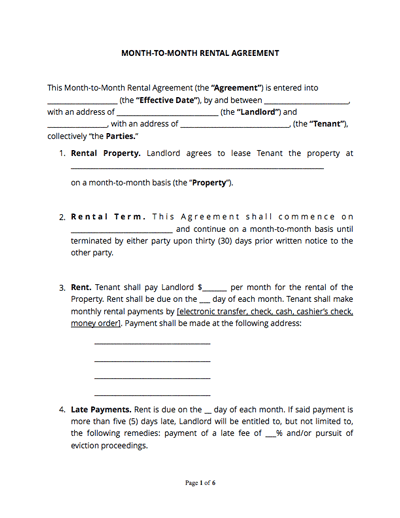textline: (71, 158, 326, 173), (93, 346, 212, 364), (91, 383, 214, 399), (95, 329, 210, 346), (92, 366, 213, 381), (69, 222, 175, 236), (116, 106, 218, 119), (179, 118, 289, 130), (263, 96, 354, 105), (47, 118, 106, 129), (46, 96, 118, 105), (203, 282, 227, 294), (264, 429, 275, 438), (198, 296, 210, 304)
